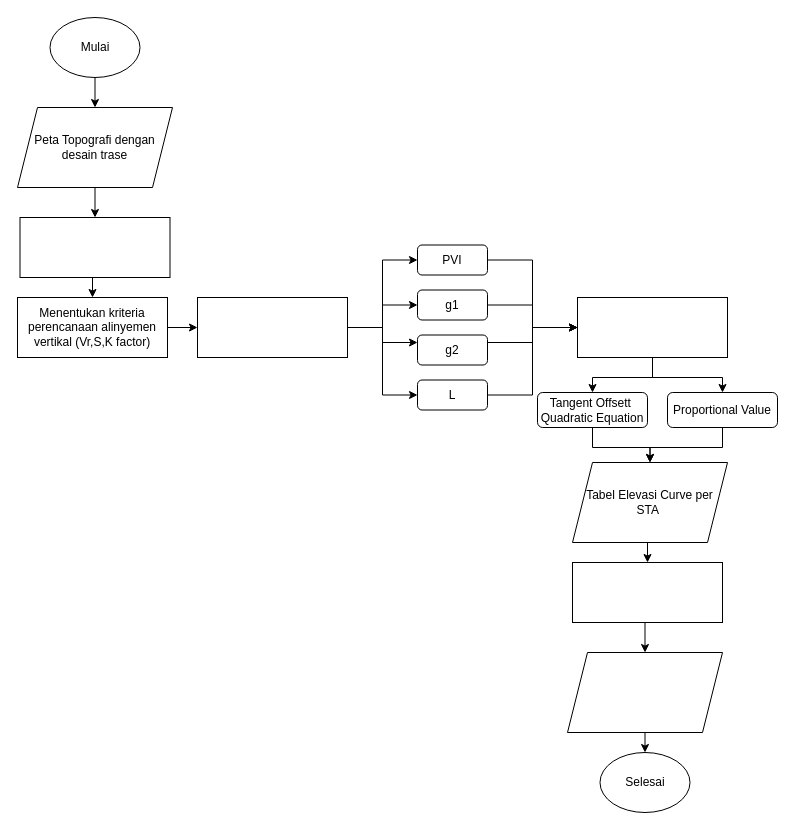
Some shapes in this 795 by 830 pixel diagram are drawn without their labels. Here are the shapes that lost their labels. From the top down, the centre of each, then its label:
At [94,247]: "Melakukan ekstraksi data dari desain trase yang ada di peta topografi".
At [272,327]: "Menyiapkan data penentuan desain alinyemen".
At [652,327]: "Melakukan perhitungan elevasi curve tiap STA dengan metode yang disediakan".
At [647,592]: "Memplotting elevasi ke milimeter blok".
At [644,692]: "Desain Alinyemen Vertikal Manual".
